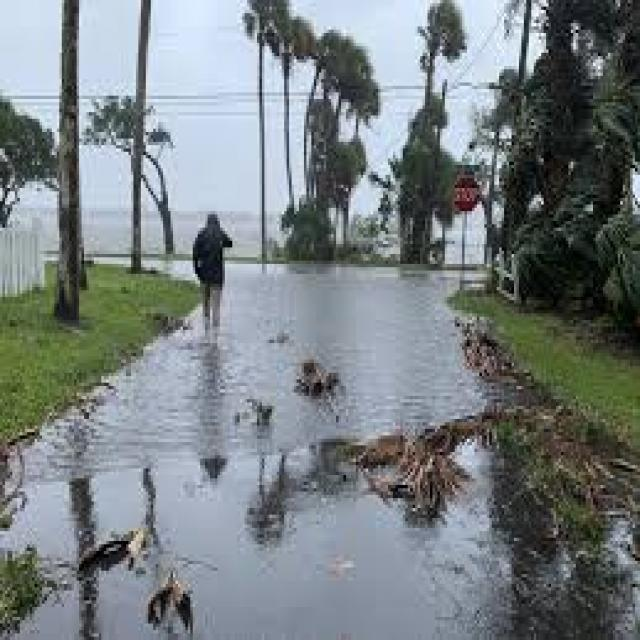Hurricane: (61, 349, 640, 640)
